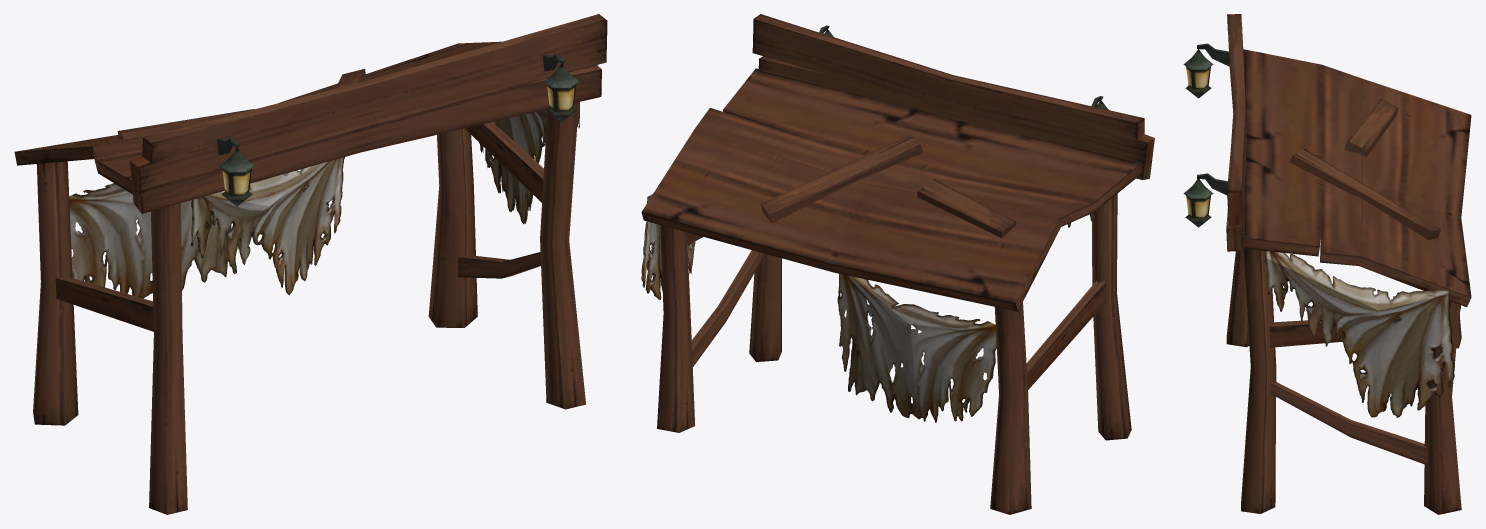
Rendered from 2_YiZhan_ChePeng_03.FBX.
3 views of the same model, side by side, from view 1: azimuth 30°, elevation 25°; view 2: azimuth 150°, elevation 25°; view 3: azimuth 270°, elevation 25° (orthographic). The views are drawn at different scales.
Visible parts, largest first — view 1: 2_YiZhan_ChePeng_03; view 2: 2_YiZhan_ChePeng_03; view 3: 2_YiZhan_ChePeng_03.
Part boxes in pixels (bbox=[...]): 2_YiZhan_ChePeng_03: bbox=[14, 14, 607, 514]; 2_YiZhan_ChePeng_03: bbox=[641, 14, 1154, 514]; 2_YiZhan_ChePeng_03: bbox=[1183, 14, 1471, 514].
Size of the model in its own units: 622 by 482 by 386.
3 materials, 3 textured.
